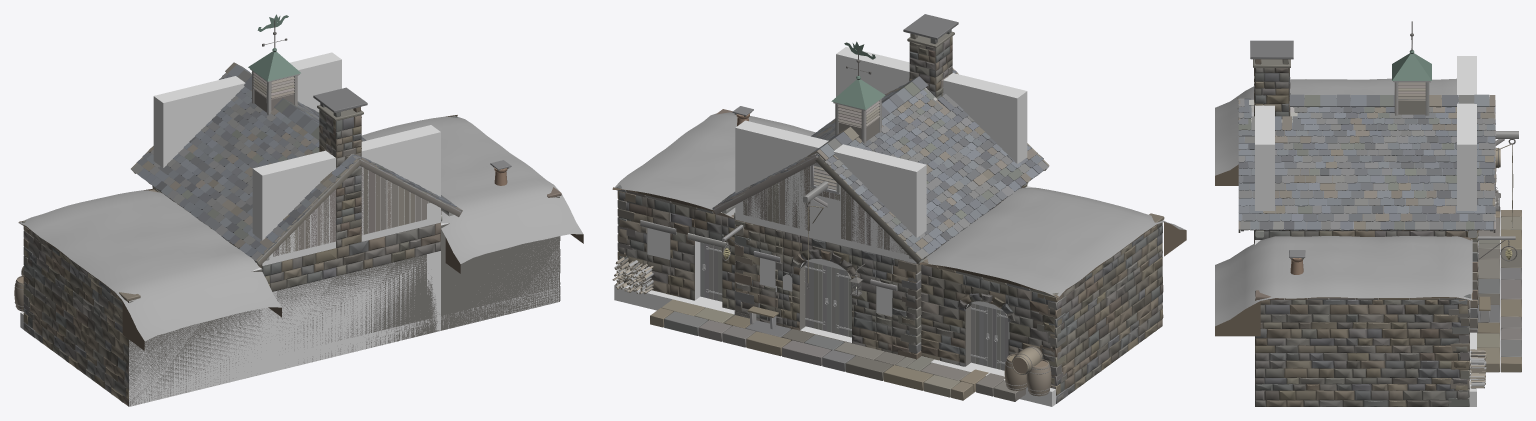
The model's file is brewery.glb.
3 renders of one model, left to right at view 1: azimuth 30°, elevation 25°; view 2: azimuth 150°, elevation 25°; view 3: azimuth 270°, elevation 25°, orthographic.
Parts seen in each view (by area): view 1: Buried back, Turf west / brew_turf, Back end, Roof slates, Stone walls / tav_stone, Turf east / brew_turf, Back gable end, Gable boards, Floor, Front middle 0, Chimney stack / tav_stone, Front middle end (+8 smaller); view 2: Stone walls / tav_stone, Roof slates, Turf west / brew_turf, Forecourt slabs, Turf east / brew_turf, Back gable end, Front middle 0, Front middle end, Corner stones, Gable boards, Front middle over 0, Floor (+16 smaller); view 3: Roof slates, Stone walls / tav_stone, Turf east / brew_turf, Forecourt slabs, Turf west / brew_turf, Corner stones, Back gable end, Front middle end, Chimney stack / tav_stone, Turf east / tav_soil, Cupola cap / brew_verdigris, Chimney stack / tav_slate (+9 smaller).
Part boxes in pixels (x1,y1,x2,y2): Buried back: (129,196,559,406); Turf west / brew_turf: (19,190,281,340); Back end: (129,223,559,406); Roof slates: (131,62,462,261); Stone walls / tav_stone: (24,188,560,406); Turf east / brew_turf: (361,116,583,263); Back gable end: (252,125,440,264); Gable boards: (273,167,430,256); Floor: (20,287,559,404); Front middle 0: (153,80,226,167); Chimney stack / tav_stone: (317,103,363,247); Front middle end: (290,52,341,112); Stone walls / tav_stone: (618,184,1163,402); Roof slates: (712,69,1048,259); Turf west / brew_turf: (925,187,1186,297); Forecourt slabs: (650,299,1025,401); Turf east / brew_turf: (615,112,815,217); Back gable end: (836,47,1027,163); Front middle 0: (852,149,926,316); Front middle end: (735,120,809,307); Corner stones: (616,109,1164,403); Gable boards: (743,166,908,255); Front middle over 0: (800,136,861,270); Floor: (614,285,1055,406); Roof slates: (1237,94,1496,230); Stone walls / tav_stone: (1254,229,1478,406); Turf east / brew_turf: (1215,236,1472,326); Forecourt slabs: (1477,190,1521,372); Turf west / brew_turf: (1215,78,1456,175); Corner stones: (1255,233,1477,406); Back gable end: (1255,105,1274,211); Front middle end: (1457,113,1476,211); Chimney stack / tav_stone: (1253,59,1290,118); Turf east / tav_soil: (1215,238,1472,336); Cupola cap / brew_verdigris: (1392,50,1431,80); Chimney stack / tav_slate: (1250,40,1293,59).
Bounding box in the file's own units: 15.48 × 9.5 × 9.19.
